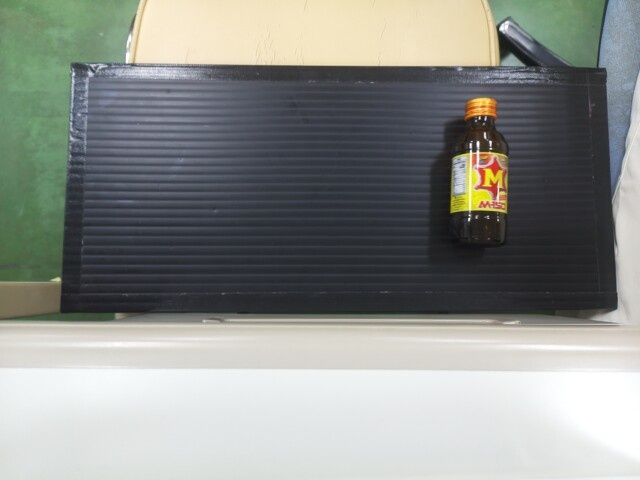glass_bottle: (447, 99, 507, 245)
